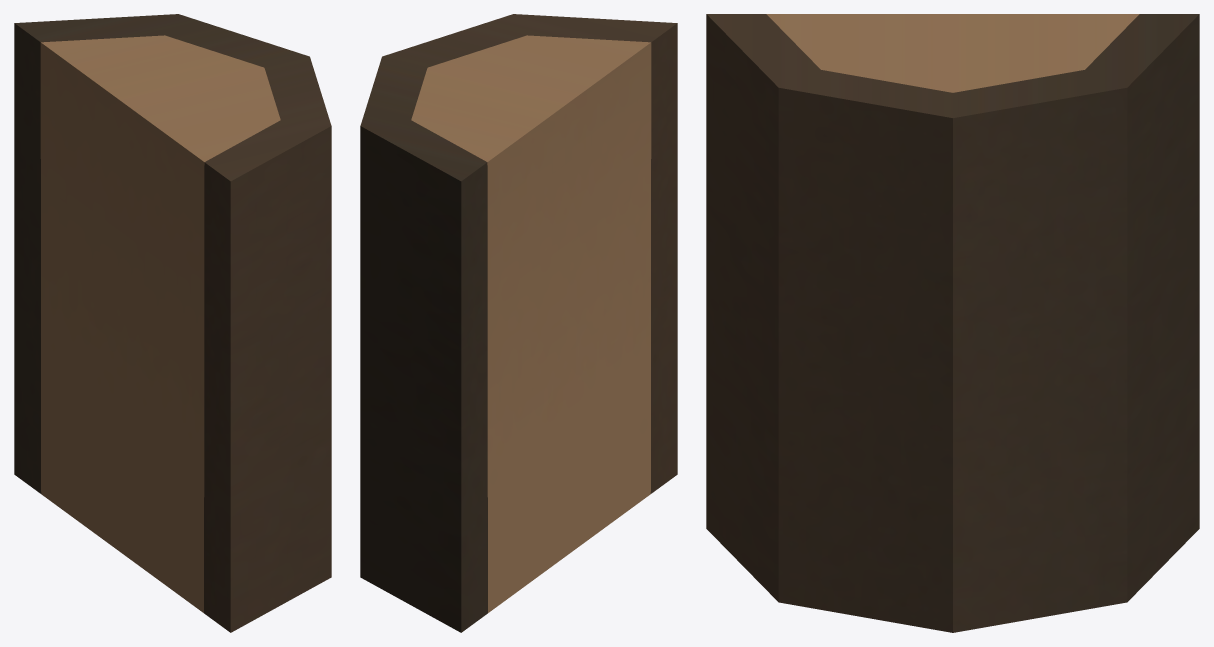
File: Chopped_Log_half.obj
The picture shows the model from 3 angles, left to right: view 1: azimuth 30°, elevation 25°; view 2: azimuth 150°, elevation 25°; view 3: azimuth 270°, elevation 25°; orthographic projection. The views are drawn at different scales.
Visible parts, largest first — view 1: Chopped_Log_half; view 2: Chopped_Log_half; view 3: Chopped_Log_half.
Part boxes in pixels (x1,y1,x2,y2): Chopped_Log_half: (14, 14, 331, 632); Chopped_Log_half: (360, 14, 677, 632); Chopped_Log_half: (706, 14, 1199, 632).
Bounding box in the file's own units: 0.2049 × 0.472 × 0.4099.
